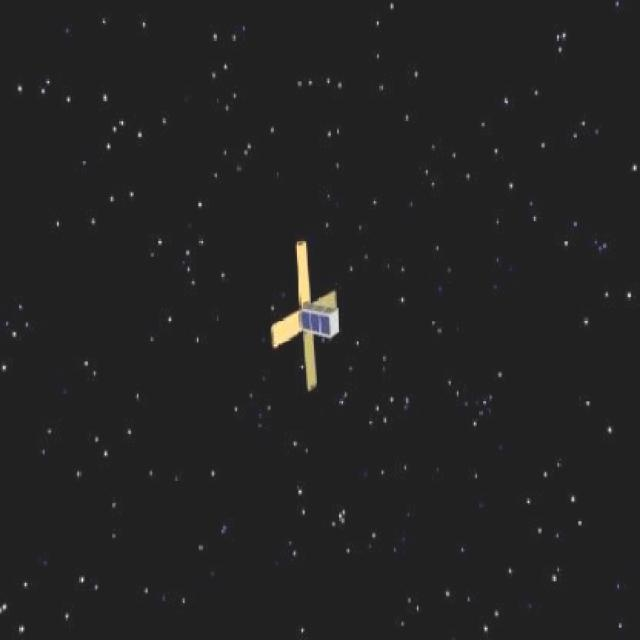medium_debris: (244, 244, 359, 400)
